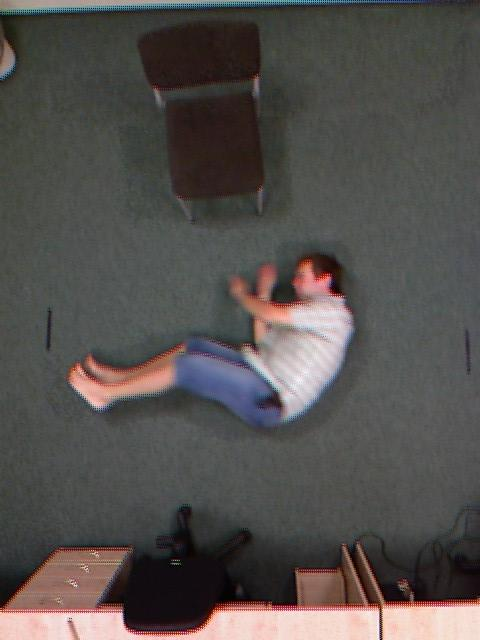fall: (138, 139, 284, 538)
